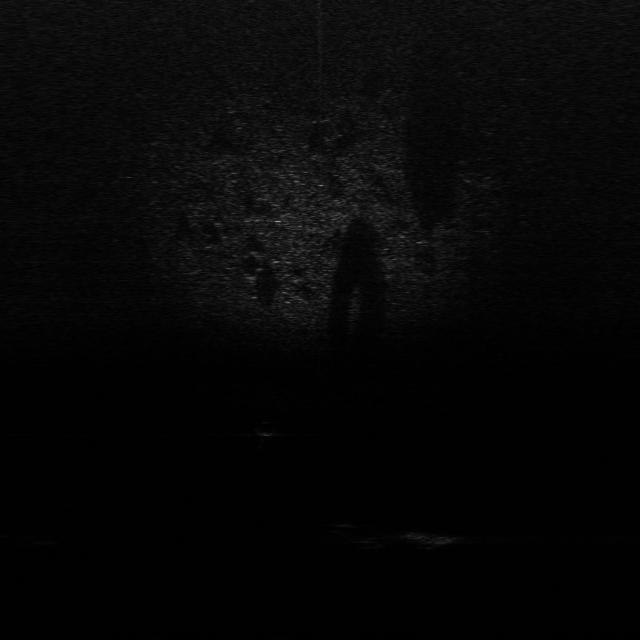ball: (250, 417, 280, 438)
metal bucket: (393, 524, 462, 552)
tyre: (341, 519, 382, 549)
